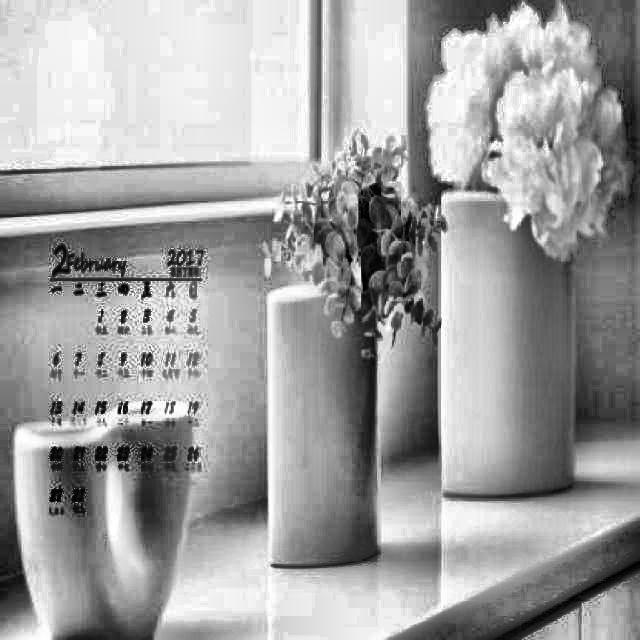plants: (284, 130, 398, 568)
